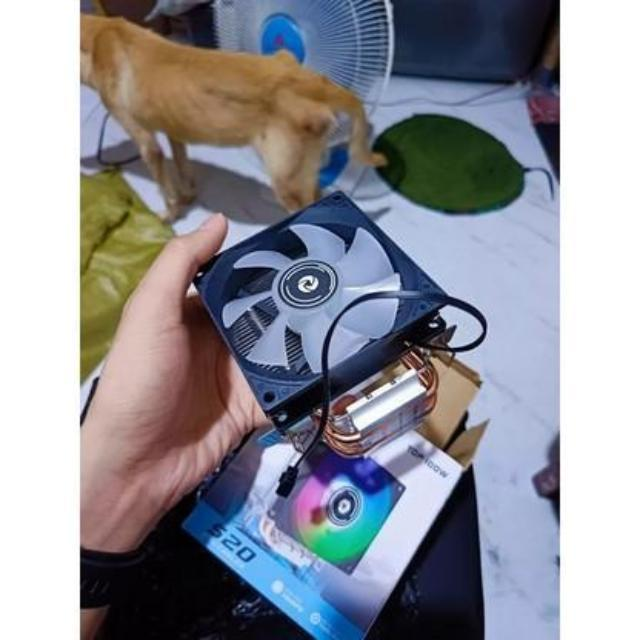CPU_Fan: (192, 188, 450, 456)
